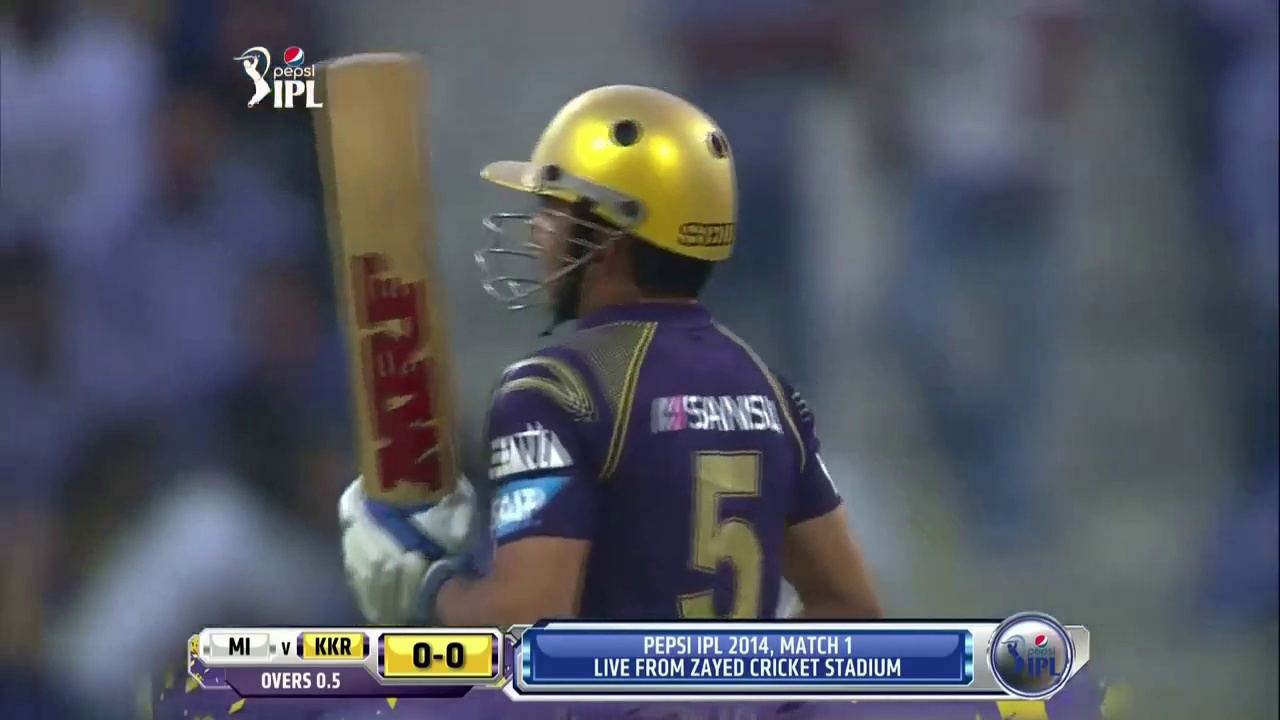bat: (330, 113, 460, 474)
